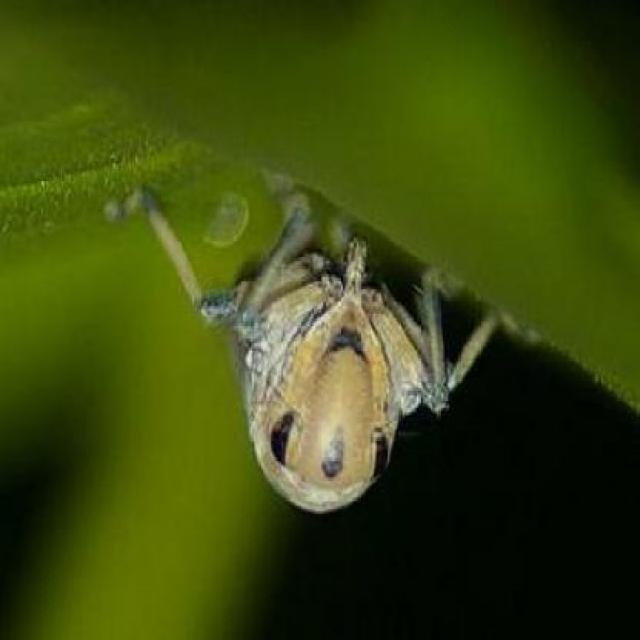green-leafhopper: (203, 175, 463, 523)
